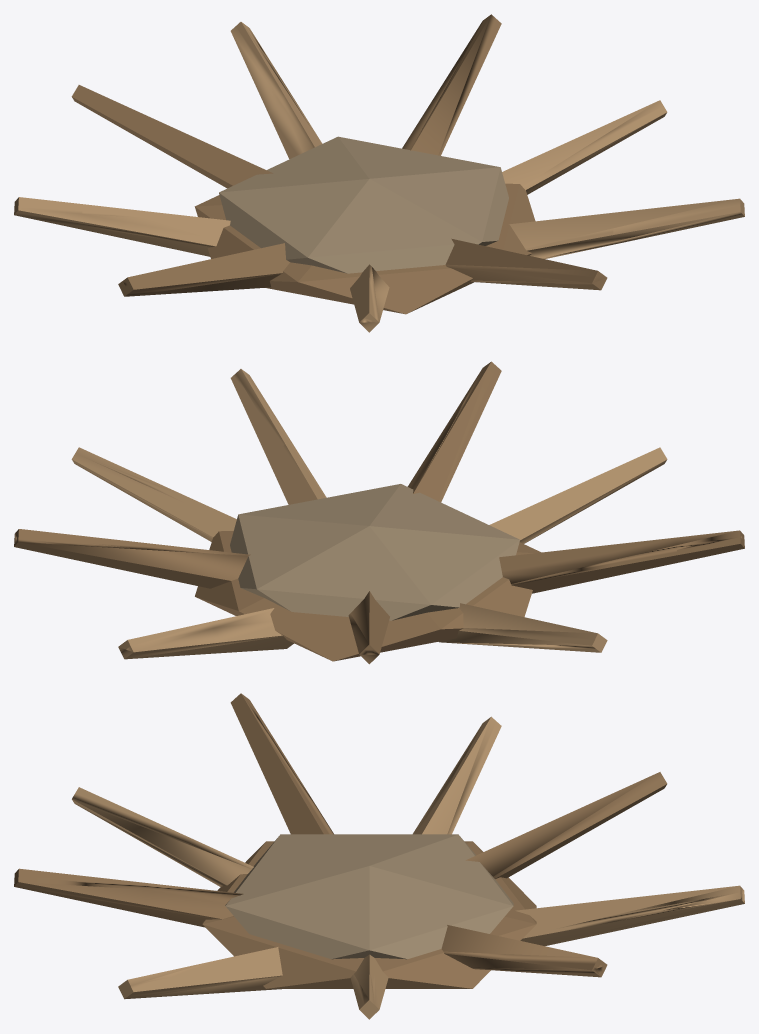
Rendered from nest.glb.
3 renders of one model, top to bottom at view 1: azimuth 30°, elevation 25°; view 2: azimuth 150°, elevation 25°; view 3: azimuth 270°, elevation 25°, orthographic.
Visible parts, largest first — view 1: NestTwig0; view 2: NestTwig0; view 3: NestTwig0.
Boxes of the visible parts, x1=… form: NestTwig0: x1=14, y1=14, x2=744, y2=332; NestTwig0: x1=14, y1=361, x2=744, y2=664; NestTwig0: x1=14, y1=693, x2=744, y2=1019.
Bounding box in the file's own units: 2.07 × 0.3404 × 2.16.
